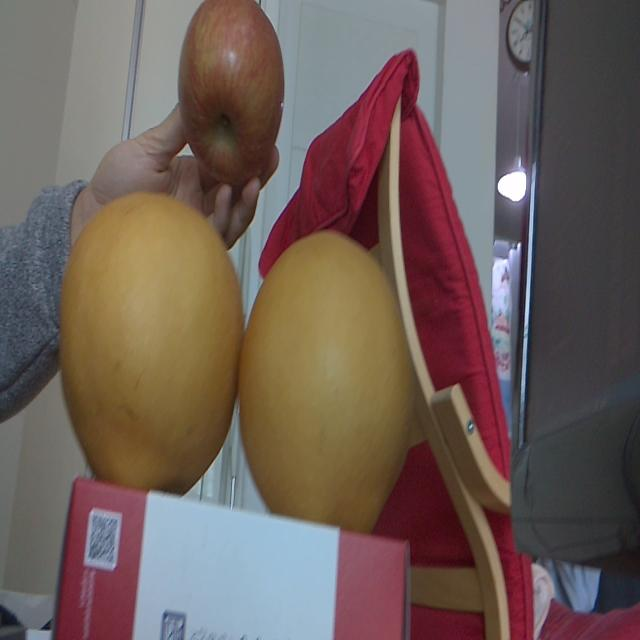apple: (161, 1, 299, 183)
pear: (58, 189, 242, 495), (240, 231, 418, 538)
